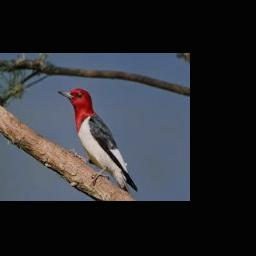Woodpecker: (58, 88, 138, 196)
